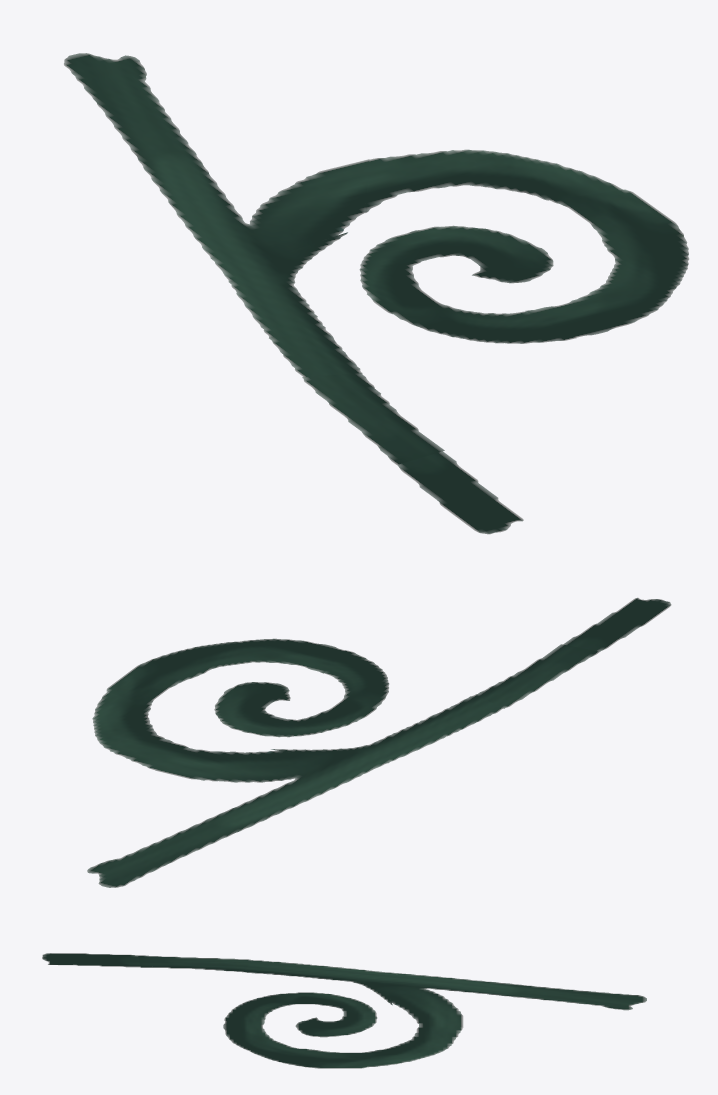
Rendered from SM_PumpkinGreen_02.fbx.
3 views of the same model, one above another, from view 1: azimuth 30°, elevation 25°; view 2: azimuth 150°, elevation 25°; view 3: azimuth 270°, elevation 25° (orthographic). The views are drawn at different scales.
Visible parts, largest first — view 1: Cylinder.004; view 2: Cylinder.004; view 3: Cylinder.004.
Part boxes in pixels (bbox=[...]): Cylinder.004: bbox=[64, 53, 689, 534]; Cylinder.004: bbox=[87, 597, 671, 887]; Cylinder.004: bbox=[42, 953, 646, 1068].
Size of the model in its own units: 54.38 by 1.77e-05 by 118.
Materials: 1 (1 with a texture image).
